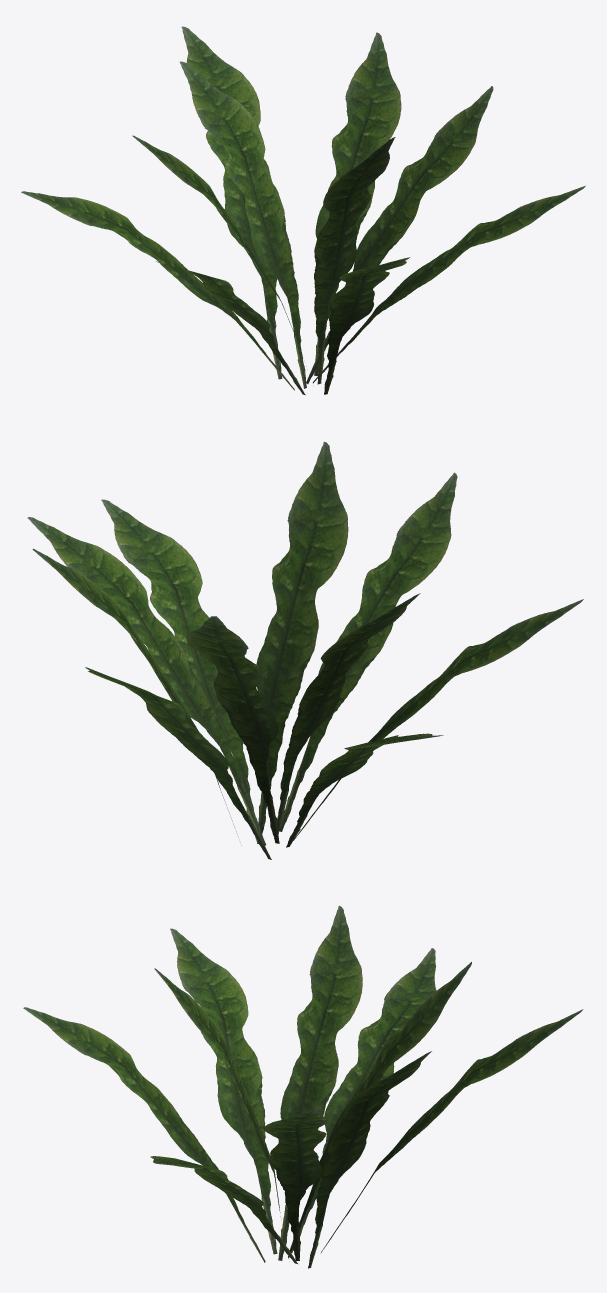
The model's file is AquaPlant_2.fbx.
3 views of the same model, one above another, from view 1: azimuth 30°, elevation 25°; view 2: azimuth 150°, elevation 25°; view 3: azimuth 270°, elevation 25° (orthographic). The views are drawn at different scales.
Parts seen in each view (by area): view 1: AquaPlant_2; view 2: AquaPlant_2; view 3: AquaPlant_2.
Boxes of the visible parts, x1,y1,x2,y2 form: AquaPlant_2: (21,26,585,395); AquaPlant_2: (27,441,583,859); AquaPlant_2: (23,905,583,1268).
Size of the model in its own units: 63.01 by 39.45 by 67.38.
